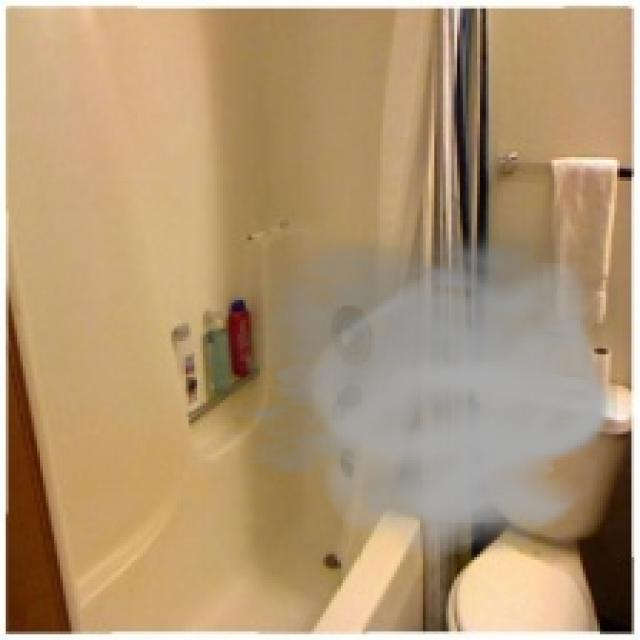Smoke: (200, 217, 617, 560)
